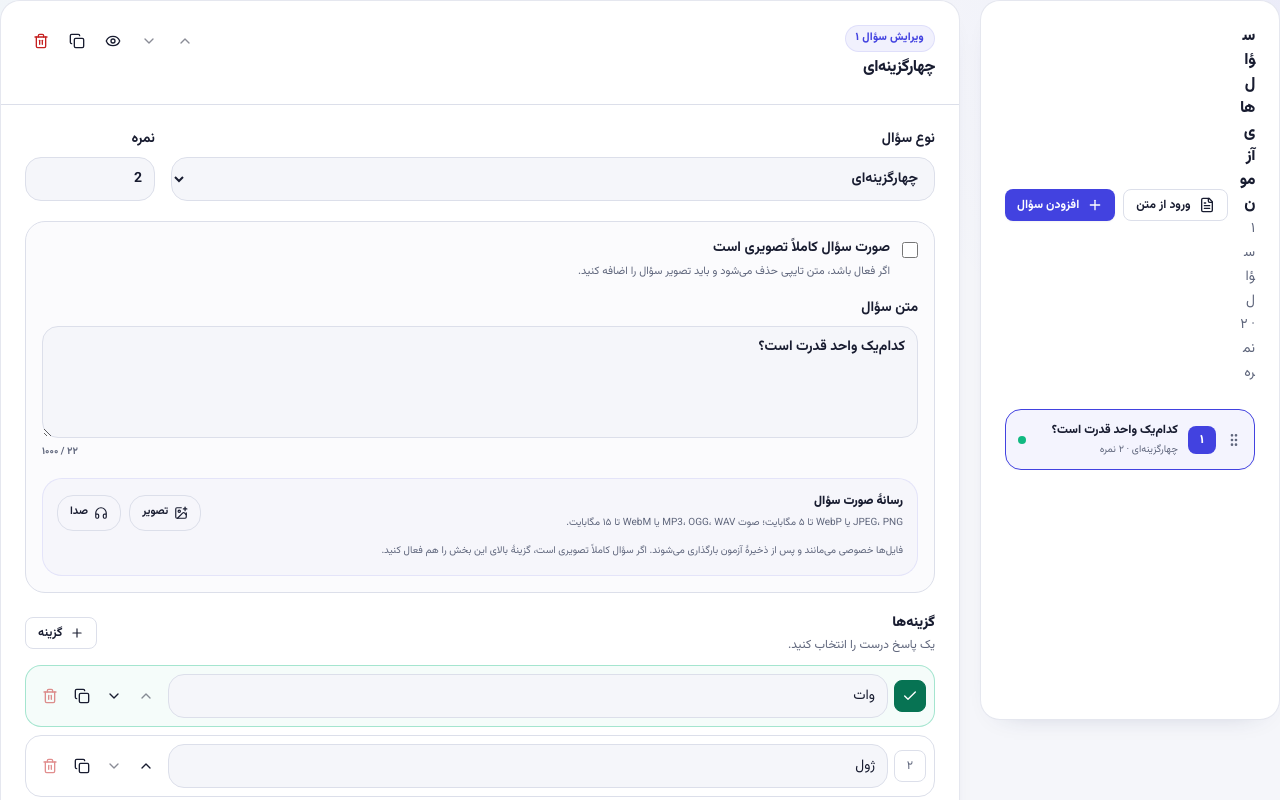
Test case: adding a question › goes back to the type choice without losing the stem
Click the button "افزودن سؤال" at (1060, 205), box [1005,189,1115,221]
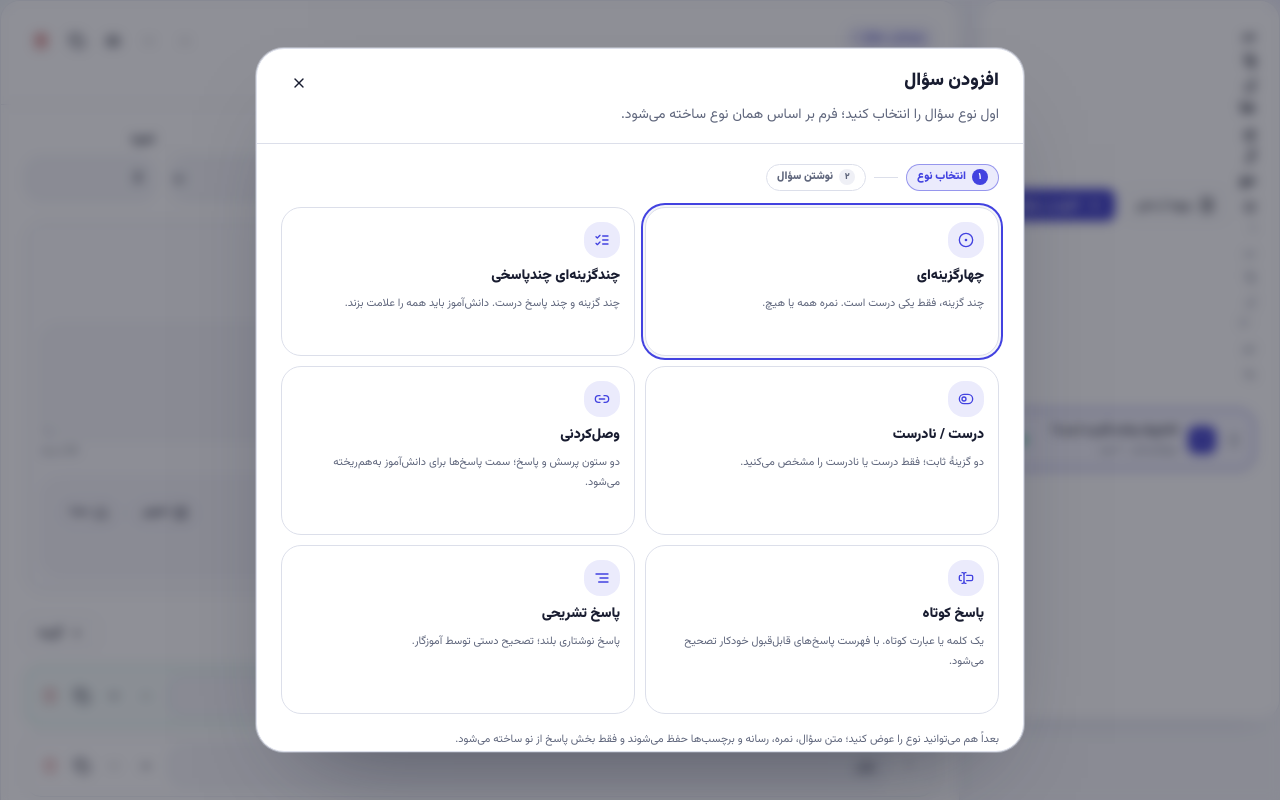
Click the button "چهارگزینه‌ای چند گزینه، فقط یکی درست است. نمره همه یا هیچ." at (966, 240), box [645,206,999,356]
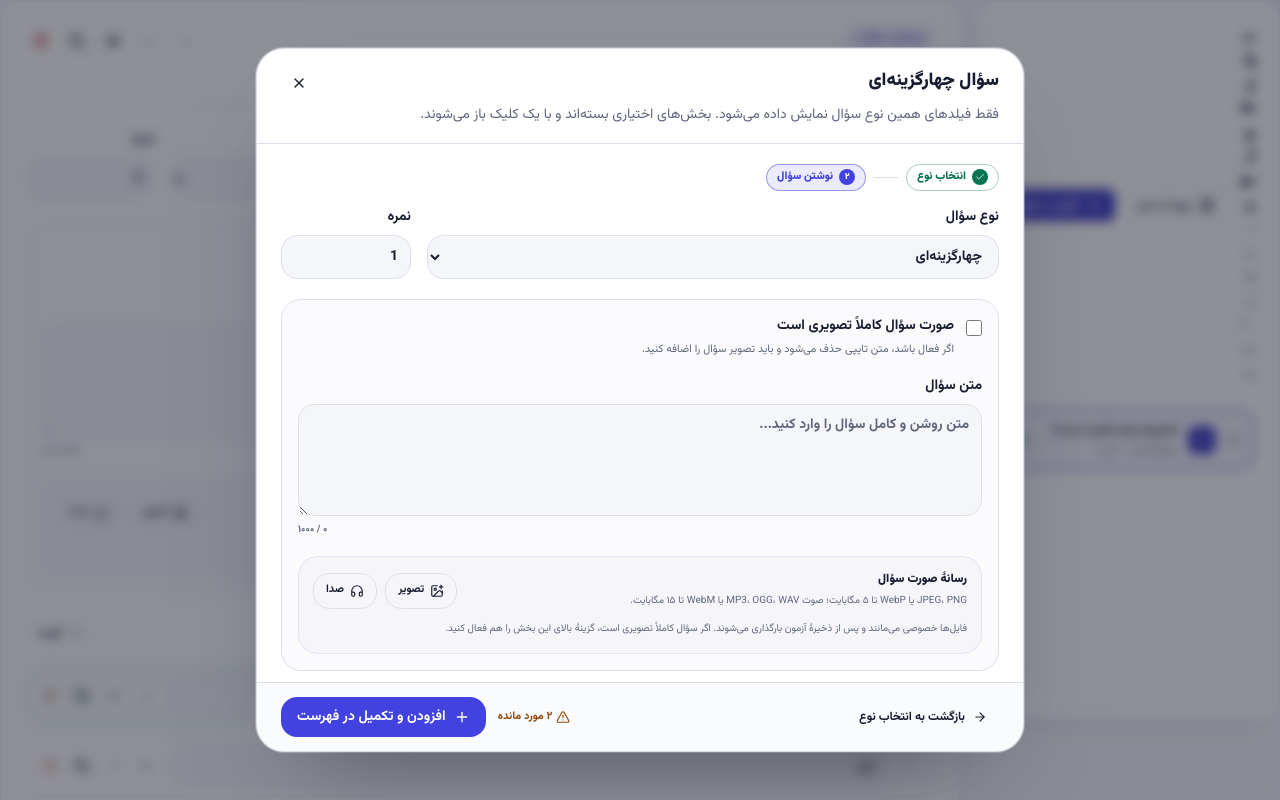
Type "کدام‌یک واحد نیرو است؟" into the text box labelled "متن سؤال ۰ / ۱۰۰۰" at (640, 460), box [298,404,982,516]
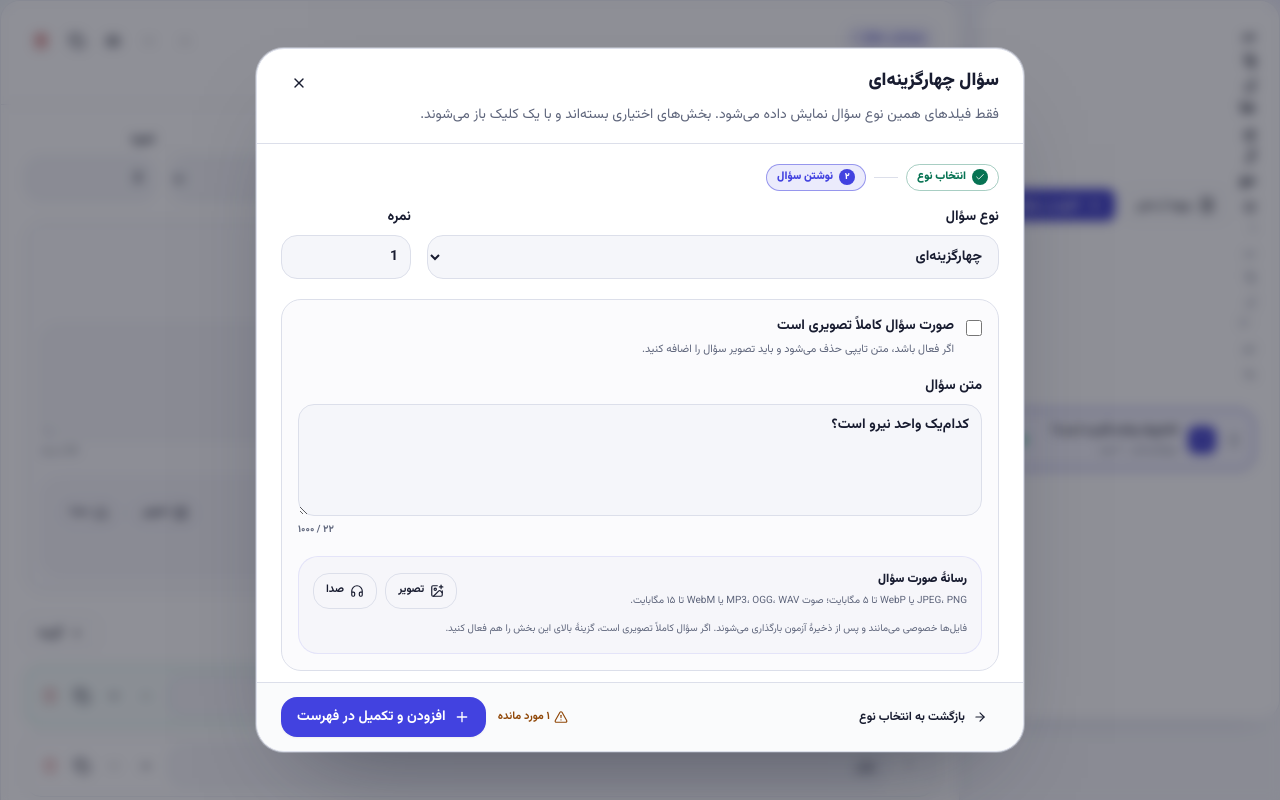
Click the button "بازگشت به انتخاب نوع" at (923, 717), box [847,701,999,733]
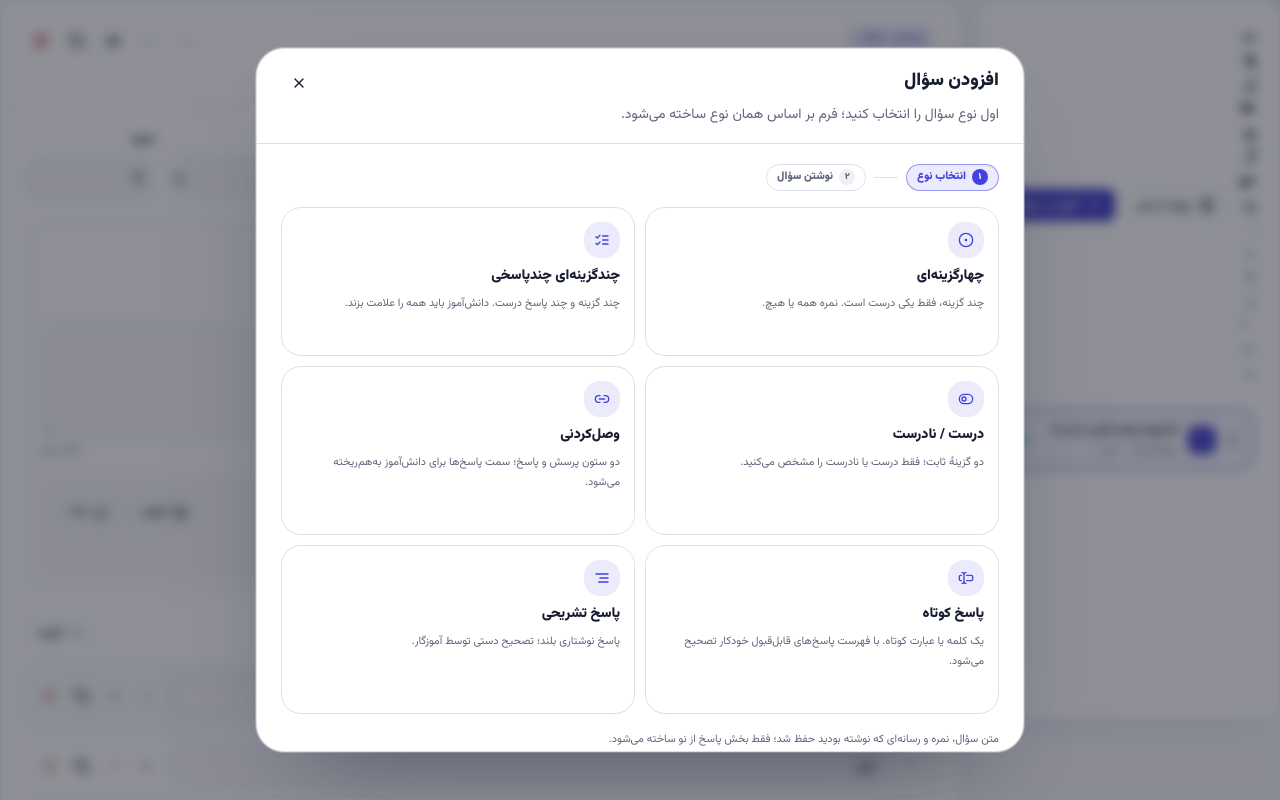
Click the button "پاسخ کوتاه" at (966, 578), box [645,544,999,714]
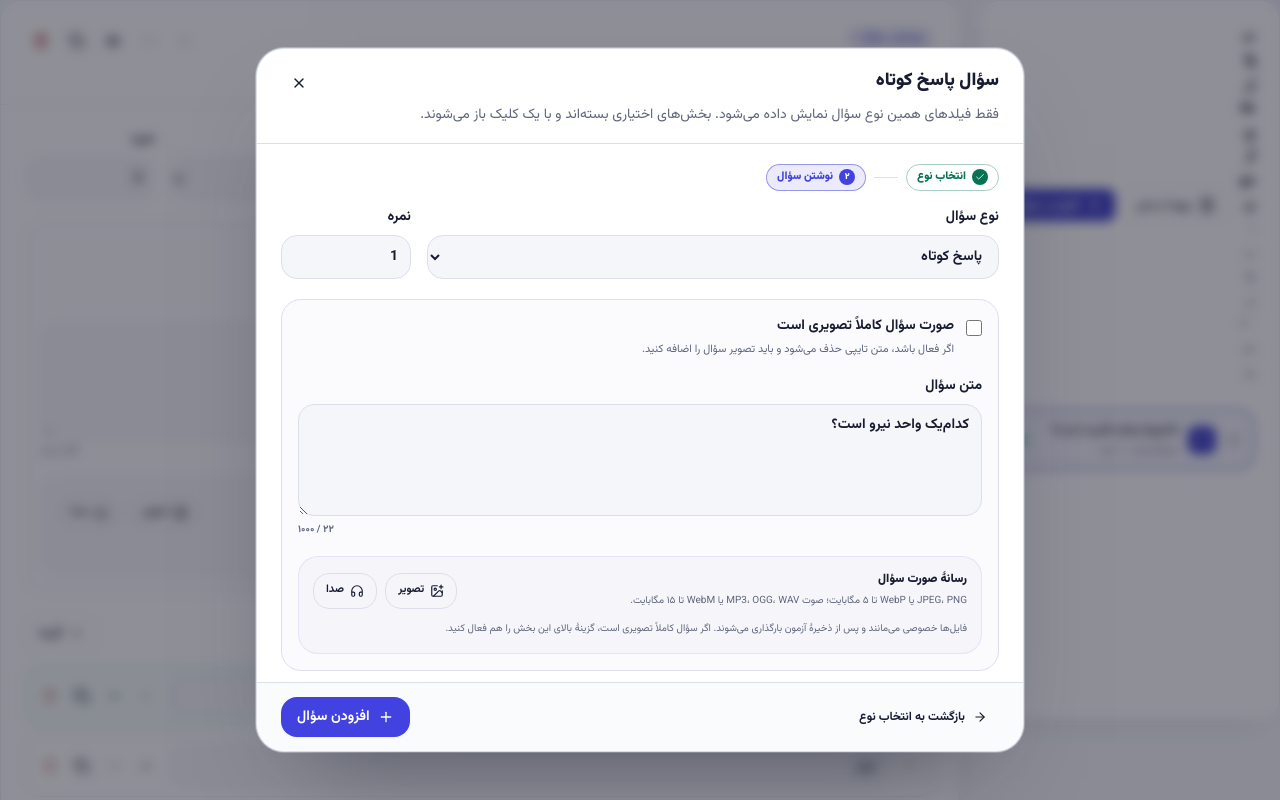
Expected: the text box labelled "متن سؤال ۲۲ / ۱۰۰۰" holds "کدام‌یک واحد نیرو است؟", [298,404,982,516]
